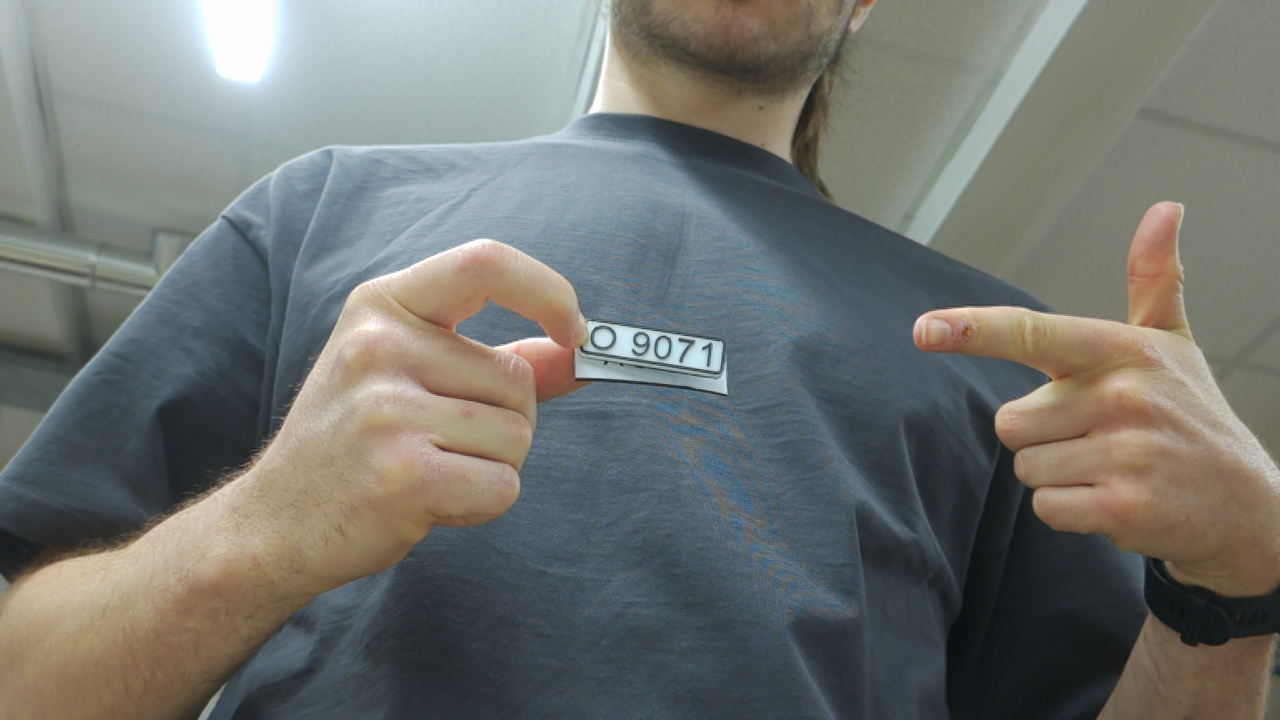license_plate: (572, 314, 734, 383)
